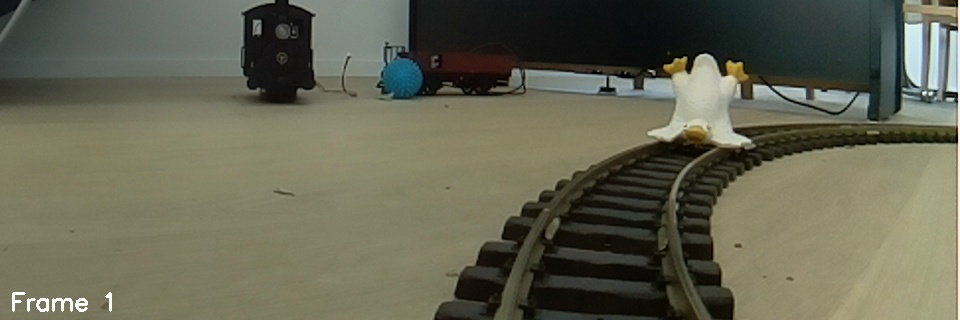Ente: (644, 46, 758, 158)
